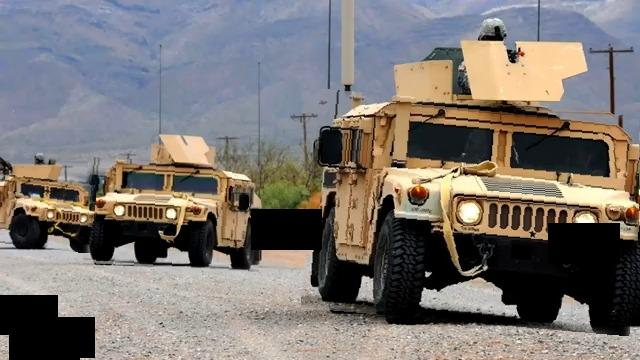MIL_HMMWV: (306, 95, 640, 329), (84, 160, 264, 270), (0, 177, 94, 251)
